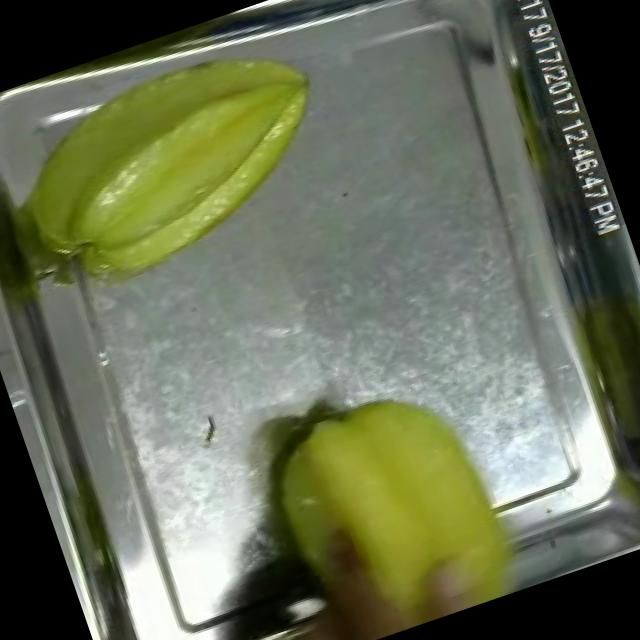fruit: (0, 5, 365, 316), (242, 354, 538, 640)
